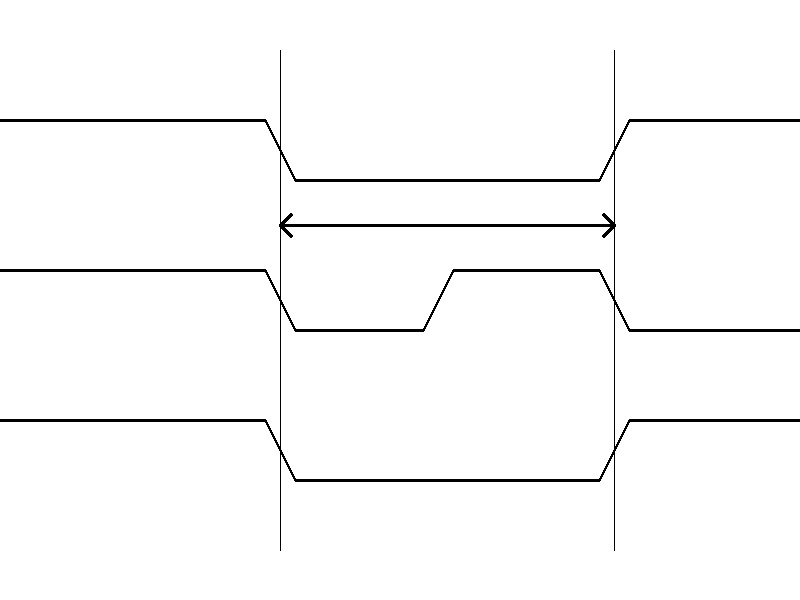double_arrow: (280, 210, 614, 240)
